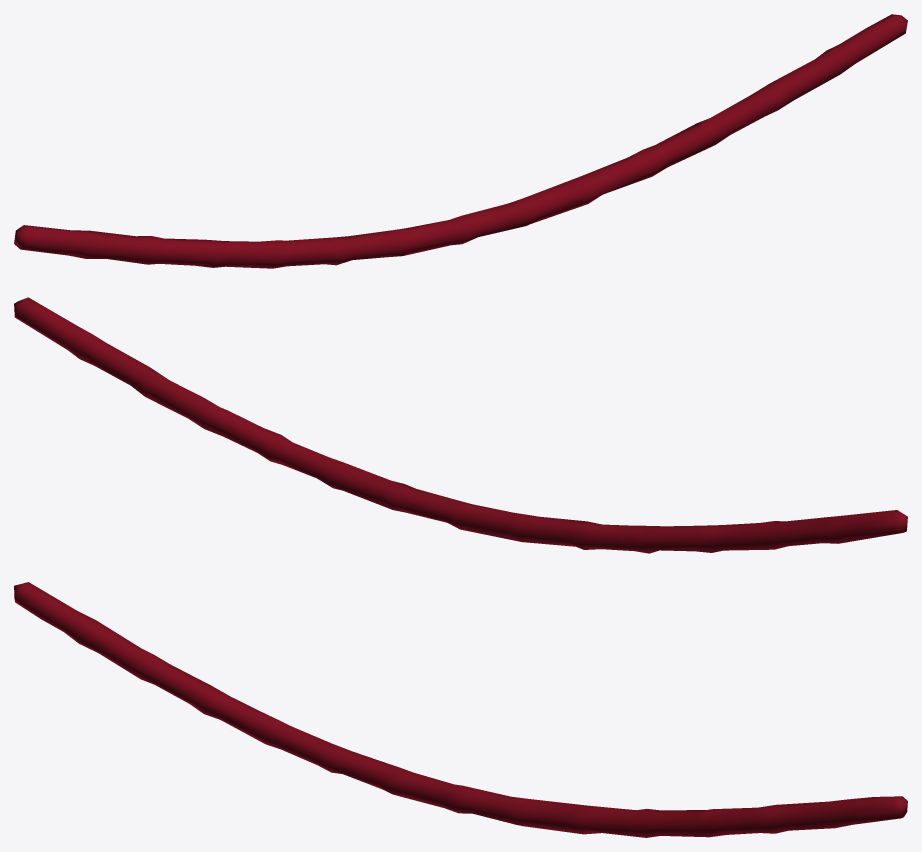
The model's file is lumiere-velvet-rope.glb.
The picture shows the model from 3 angles, top to bottom: view 1: azimuth 30°, elevation 25°; view 2: azimuth 150°, elevation 25°; view 3: azimuth 330°, elevation 25°; orthographic projection.
Parts seen in each view (by area): view 1: lumiere-velvet-rope_LOD0; view 2: lumiere-velvet-rope_LOD0; view 3: lumiere-velvet-rope_LOD0.
Part boxes in pixels (bbox=[...]): lumiere-velvet-rope_LOD0: bbox=[14, 14, 907, 268]; lumiere-velvet-rope_LOD0: bbox=[14, 297, 907, 553]; lumiere-velvet-rope_LOD0: bbox=[14, 582, 907, 837].
Size of what is drawn, in the model's own units: 1.51 by 0.199 by 0.0427.
